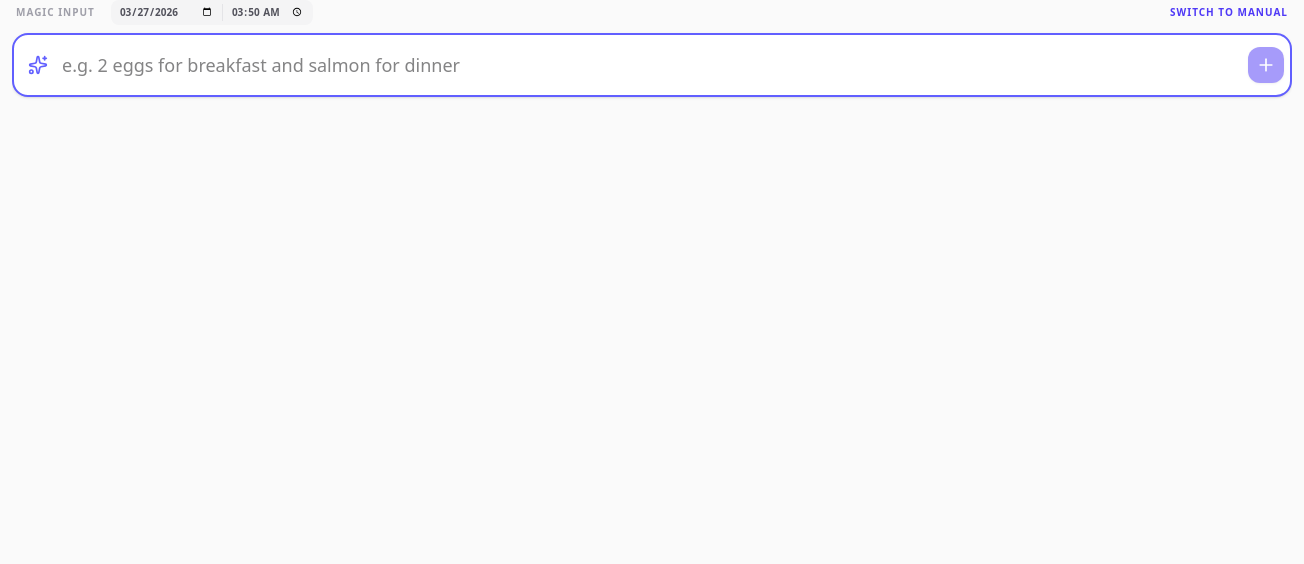
Scenario: MealLogger › shows parsed meal results
Type "chicken for lunch" into the field with placeholder "e.g. 2 eggs for breakfast and salmon for dinner" at {"x": 652, "y": 64}, box [12,32,1292,96]
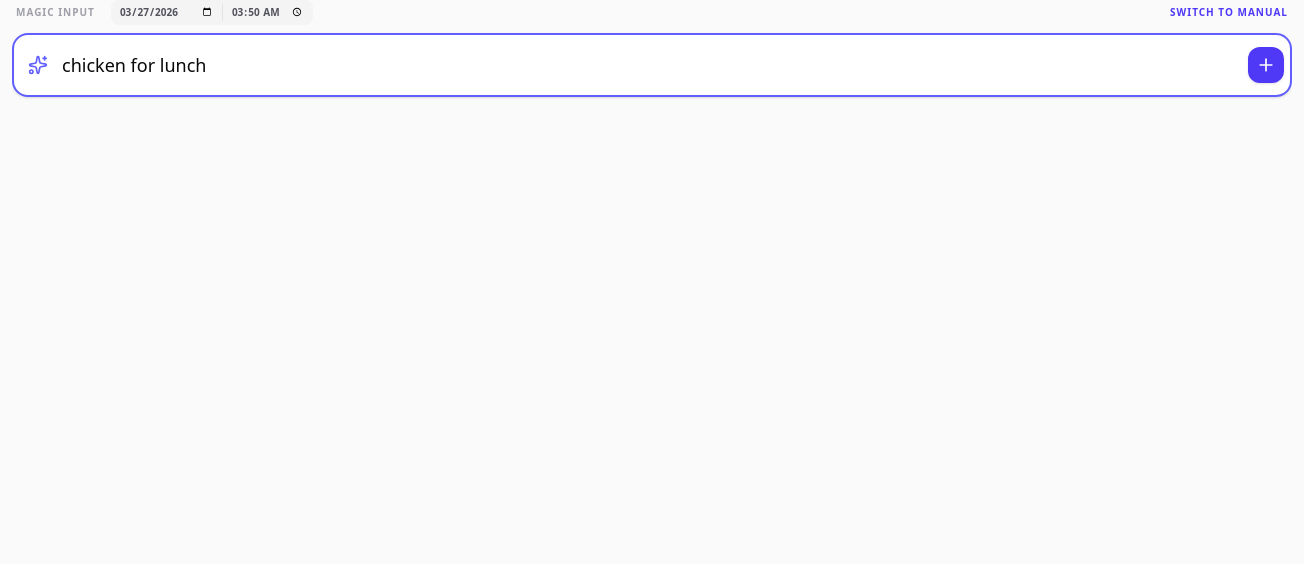
Click the 2nd button at {"x": 1266, "y": 64}, box [1248,46,1284,82]
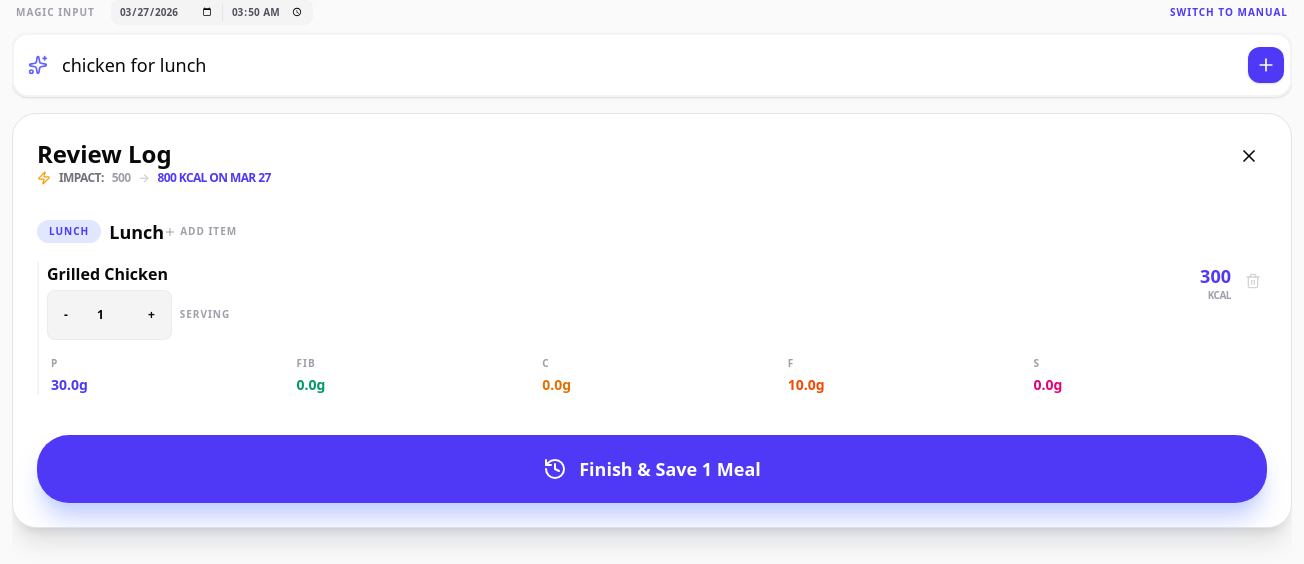
Now the text "Grilled Chicken" is shown, box [47,262,168,284]
